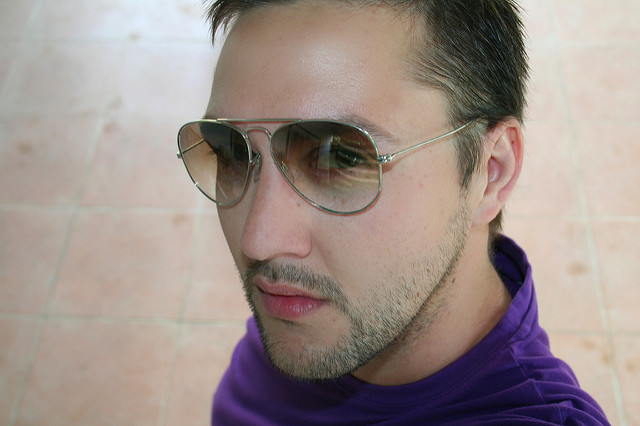sunglasses: (170, 118, 375, 208)
